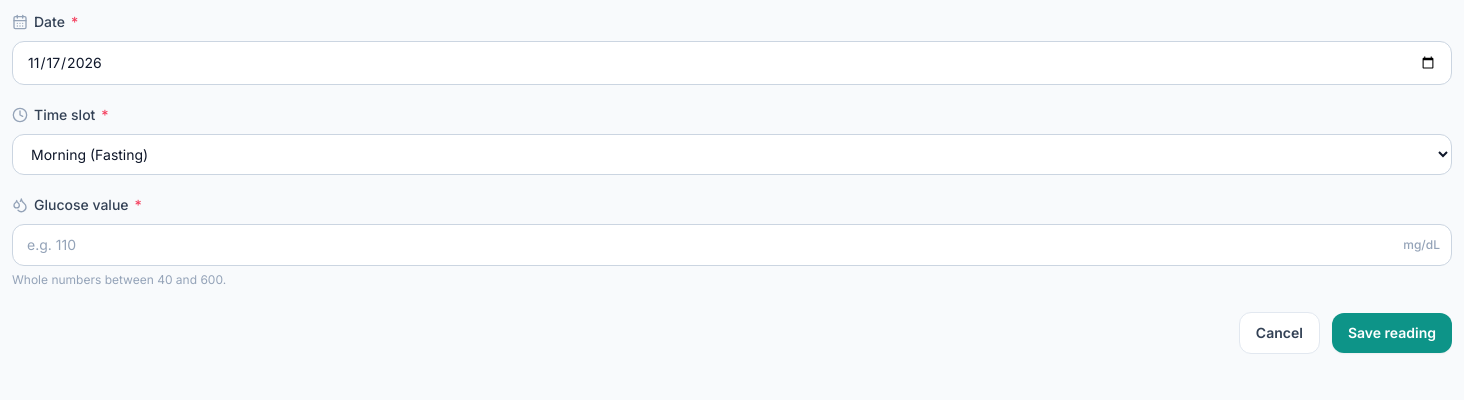
it: ReadingForm - validation › clears a field error once the user starts typing
The image size is (1464, 400).
Click the button "Save reading". click: x=1392, y=333
box: left=1332, top=313, right=1452, bottom=353
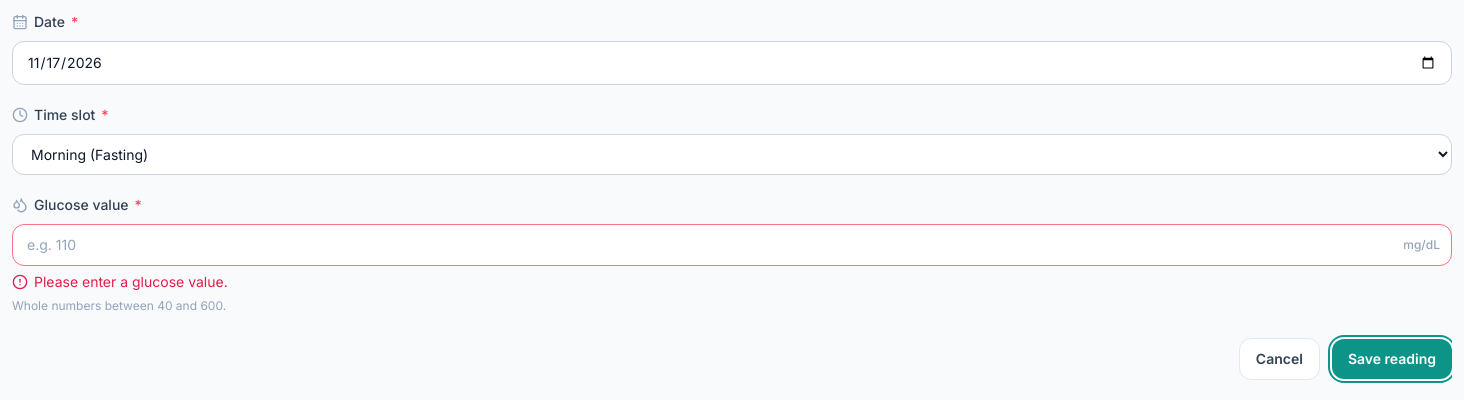
Expected: the text "Please enter a glucose value." is shown, left=12, top=273, right=228, bottom=290
Type "1" into the field labelled "Glucose value *". click: x=732, y=245
box: left=12, top=224, right=1452, bottom=266
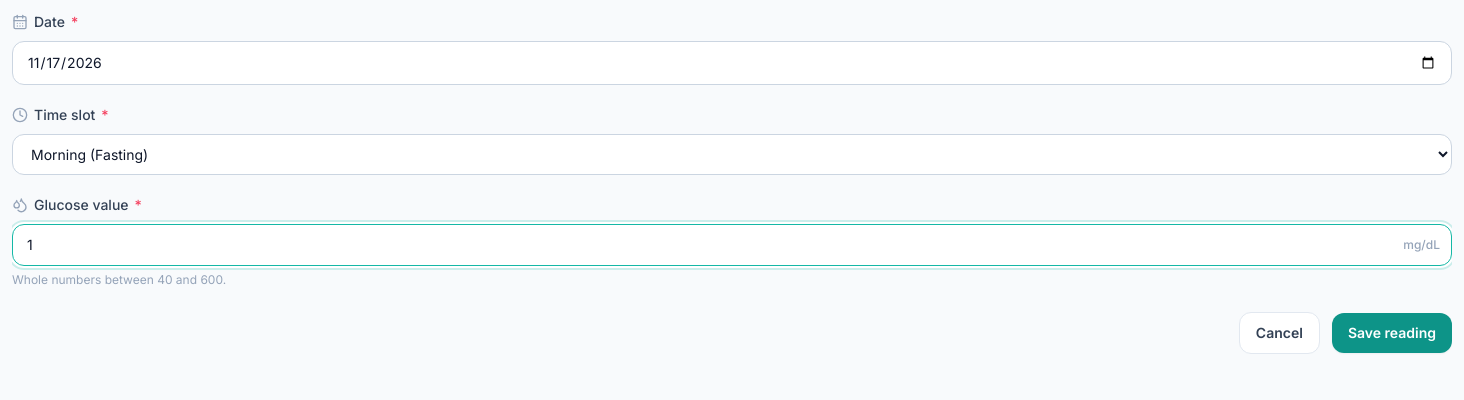
Expected: the text "Please enter a glucose value." is gone
